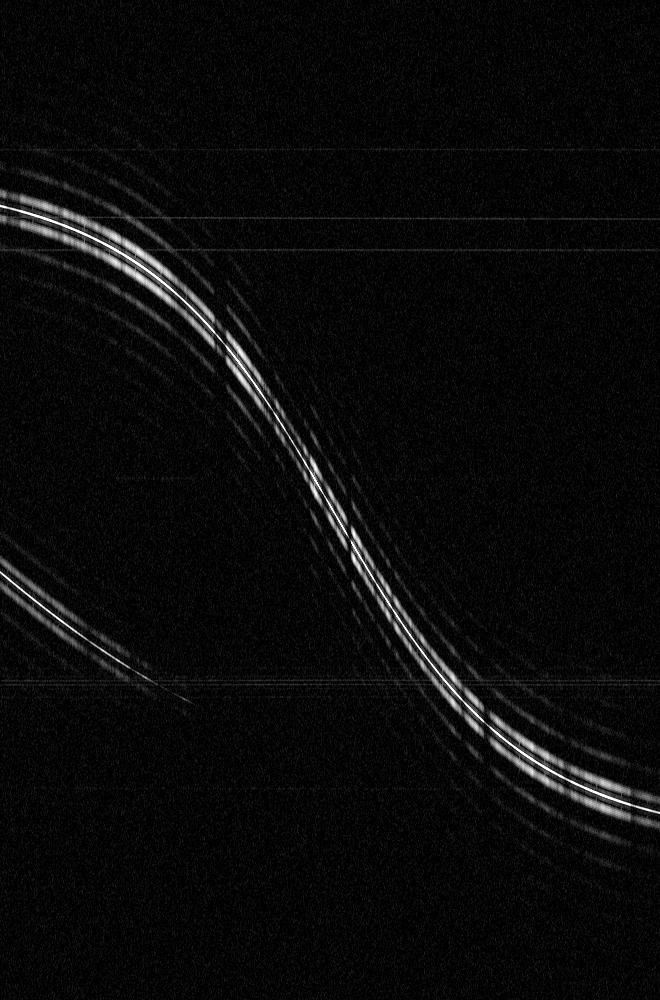signal: (0, 0, 659, 999)
